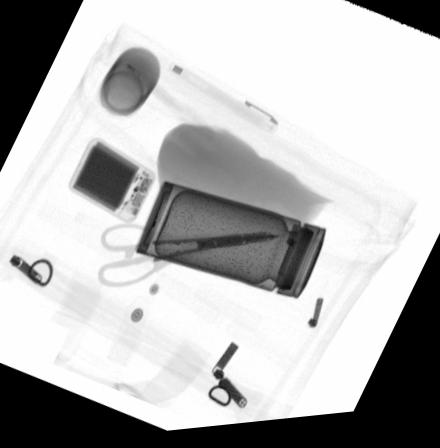Powerbank: (65, 140, 154, 227)
Scissors: (96, 226, 282, 290)
